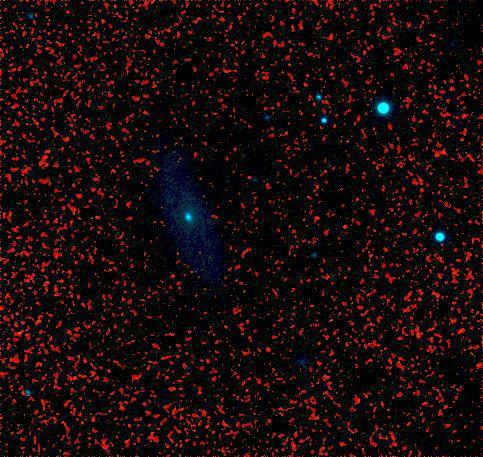star: (0, 313, 29, 343)
